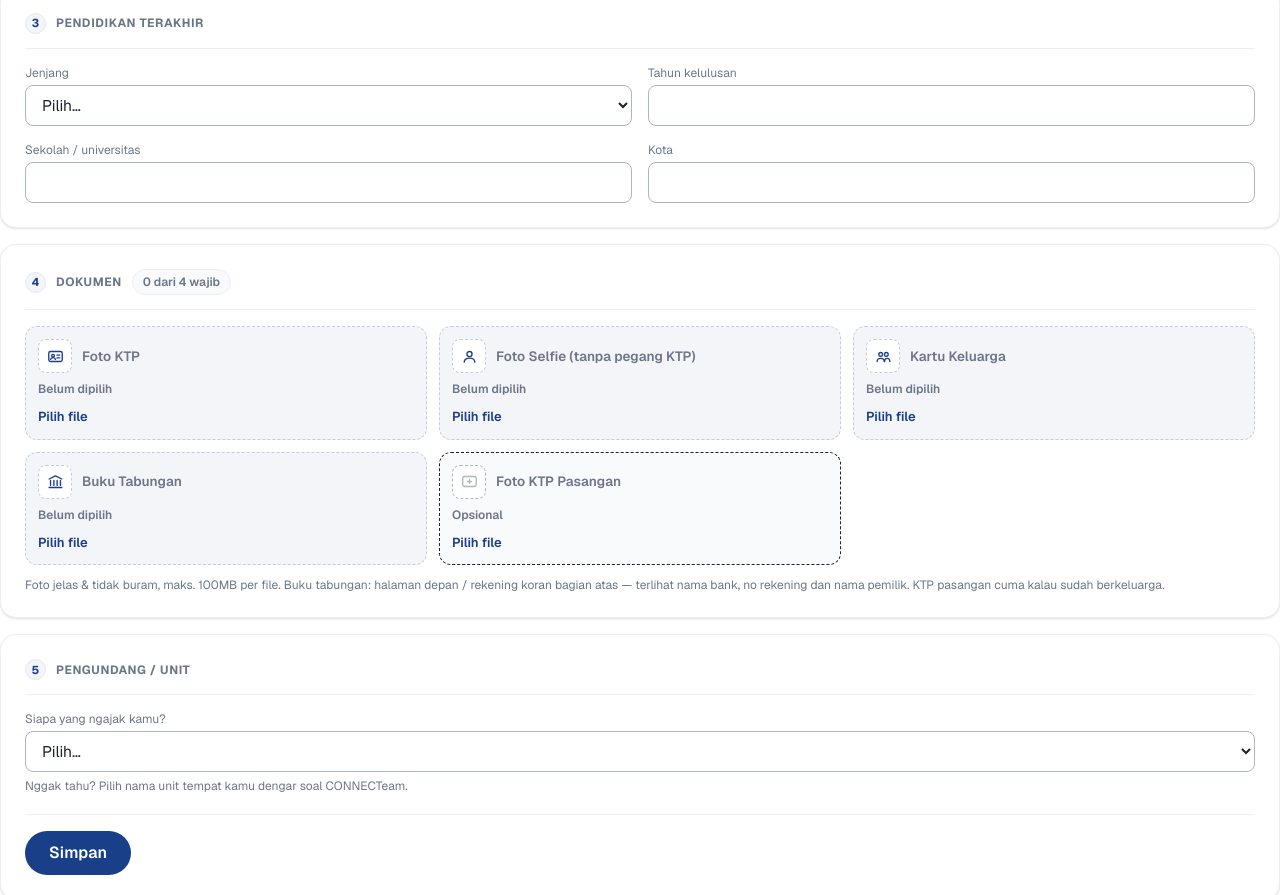
it: JoinDataForm — first fill › an empty submit flags every section at once — except the locked email
(page scrolled)
Click the button "Simpan" at (78, 853), box [25,831,131,875]
(page scrolled)
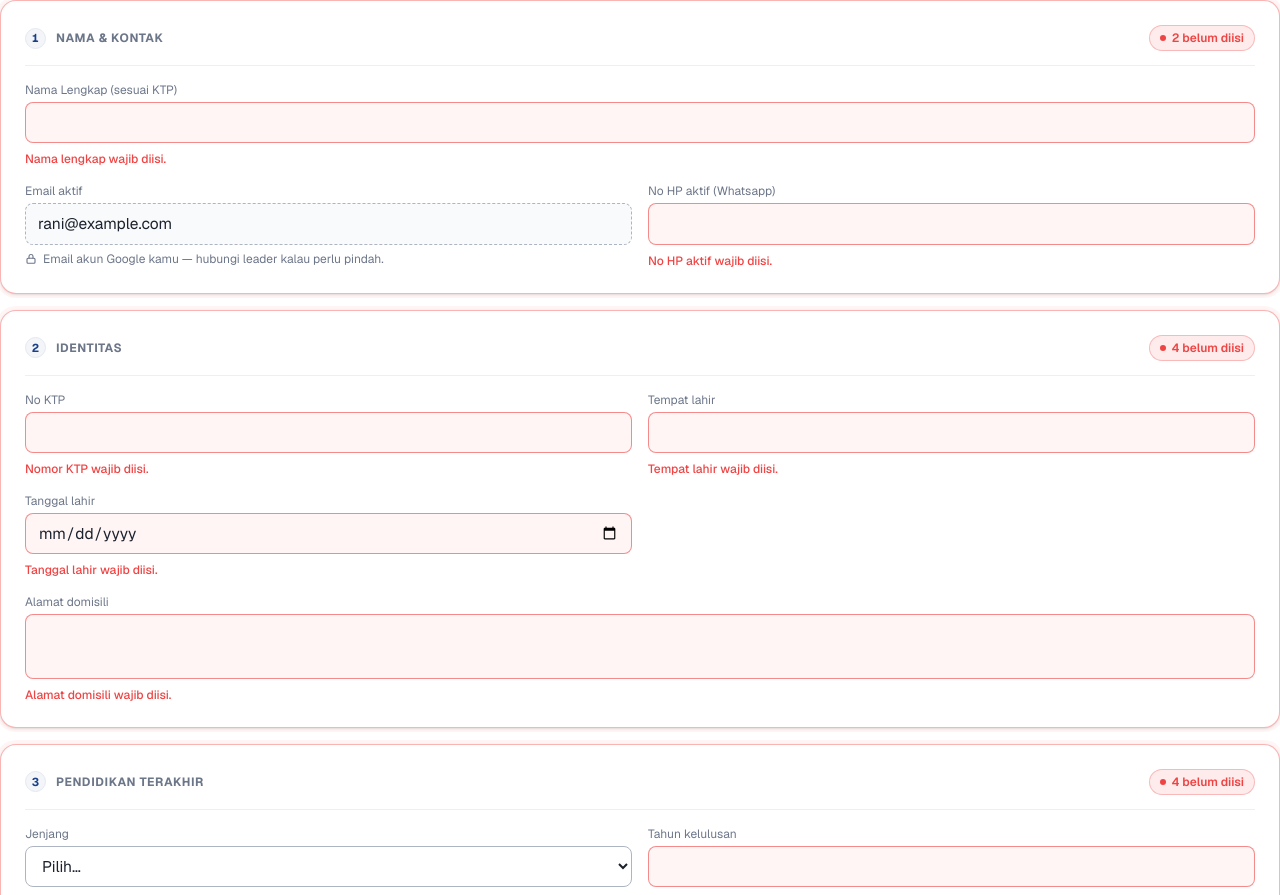
Now the text "Nama lengkap wajib diisi." is shown, box [25,151,166,167]
Now the text "2 belum diisi" is shown, box [1149,25,1255,51]
